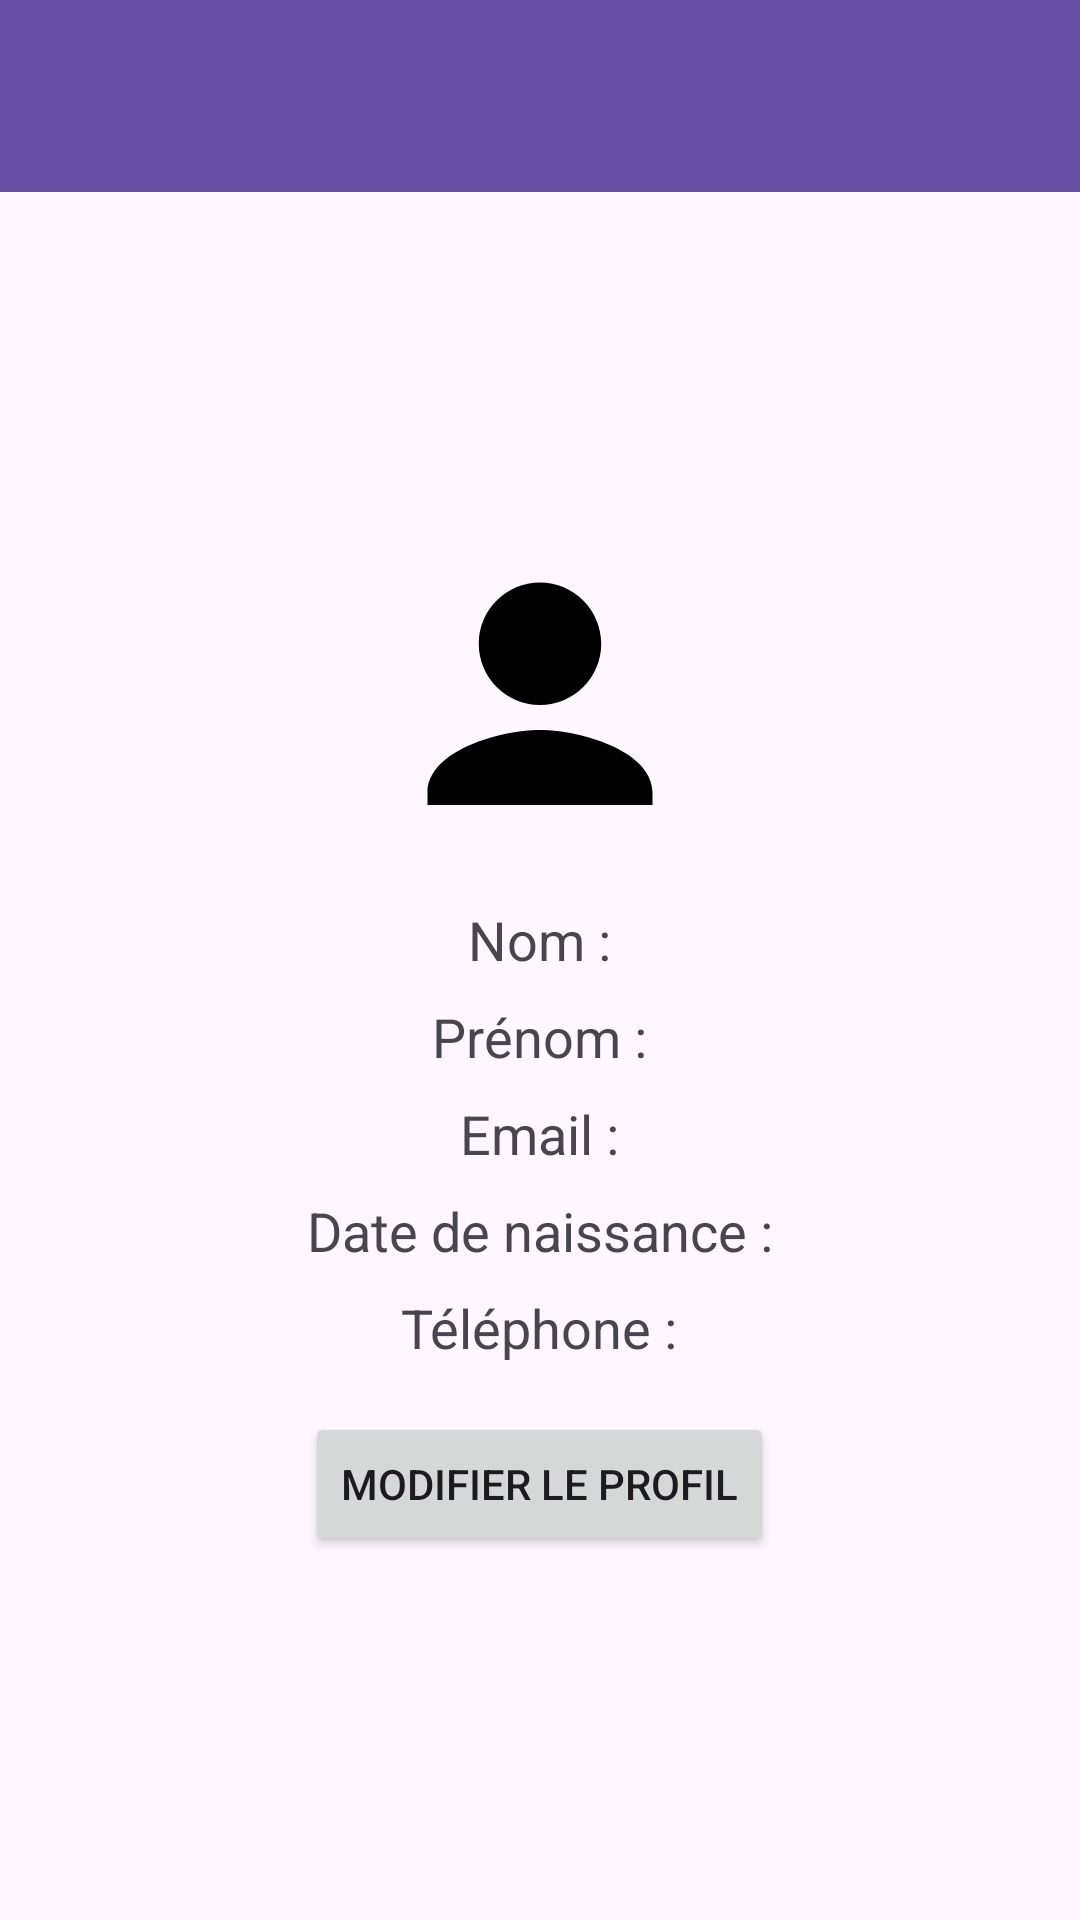

Locate icon controls on the screen. Image size 1080w x 1920h, boxes as (x1, y1, x2, y2).
Photo de profil: (427, 582, 653, 805)
